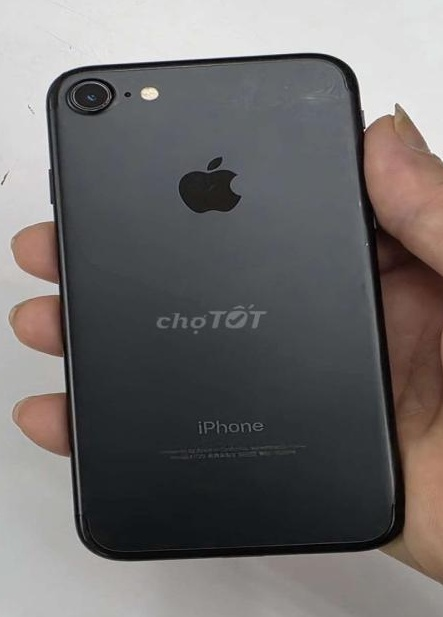scratch: (279, 71, 349, 109), (60, 74, 117, 116), (377, 492, 397, 536), (352, 181, 367, 211), (361, 236, 375, 253)
